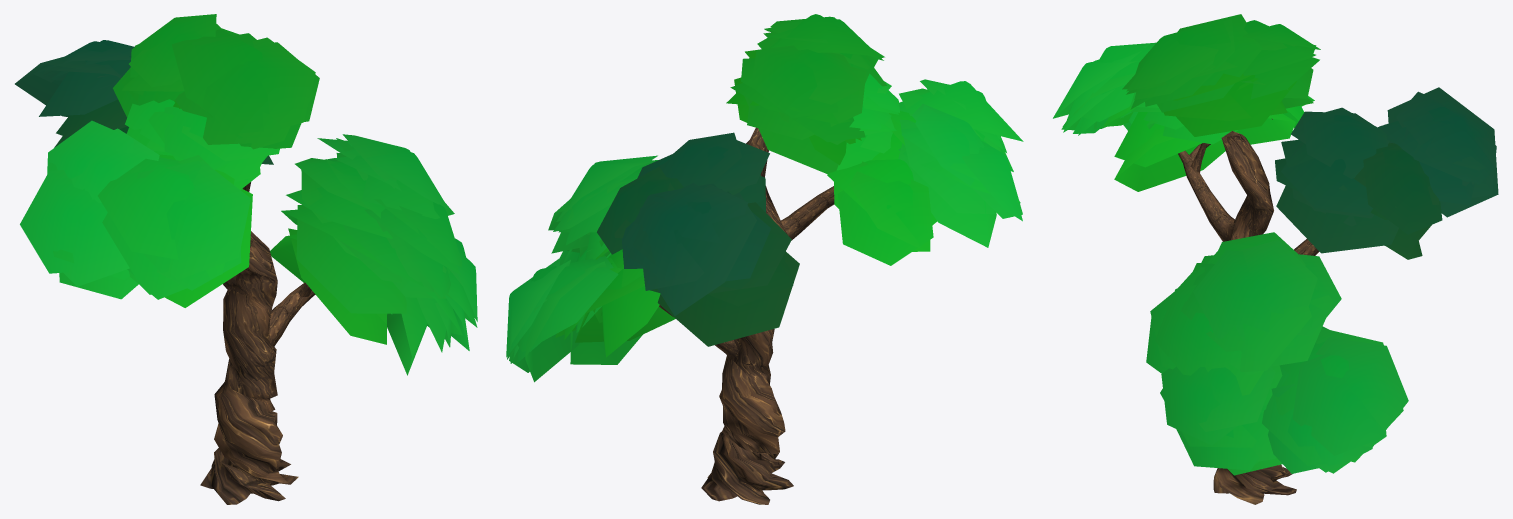
File: FantasyTree5.fbx
3 renders of one model, left to right at view 1: azimuth 30°, elevation 25°; view 2: azimuth 150°, elevation 25°; view 3: azimuth 270°, elevation 25°, orthographic. The views are drawn at different scales.
Visible parts, largest first — view 1: fantasyleaf3_alpha_1, tree2_0; view 2: fantasyleaf3_alpha_1, tree2_0; view 3: fantasyleaf3_alpha_1, tree2_0.
Part boxes in pixels (<box>): fantasyleaf3_alpha_1: <box>15,14,477,375</box>; tree2_0: <box>200,182,315,504</box>; fantasyleaf3_alpha_1: <box>506,14,1023,382</box>; tree2_0: <box>659,127,834,504</box>; fantasyleaf3_alpha_1: <box>1053,14,1498,475</box>; tree2_0: <box>1178,119,1319,504</box>.
Size of the model in its own units: 726 by 721 by 665.
1 material, 1 textured.
